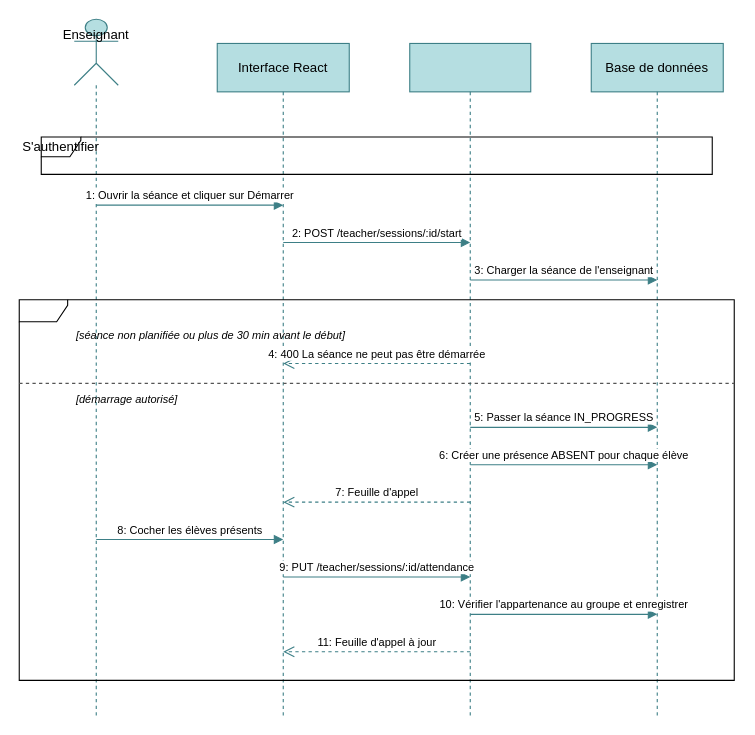
Image size: 755x735. Some labels were removed from this diagram. Each missing label, with the box of its shape:
alt: (18, 299, 734, 680)
API NestJS: (409, 42, 531, 716)
